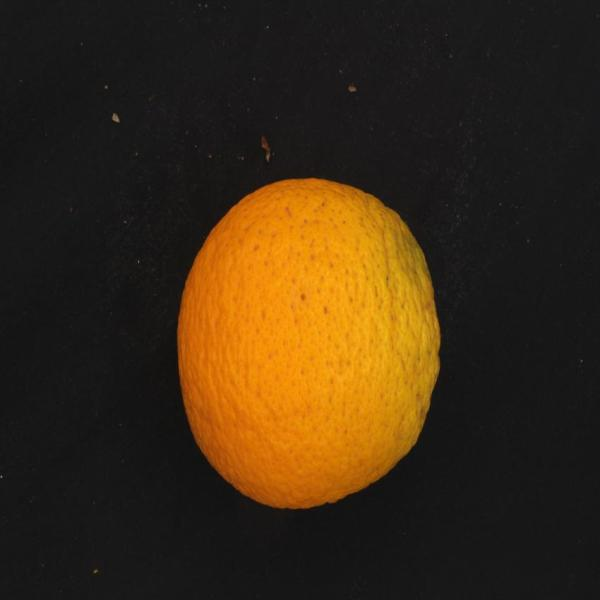Sana: (153, 170, 458, 524)
